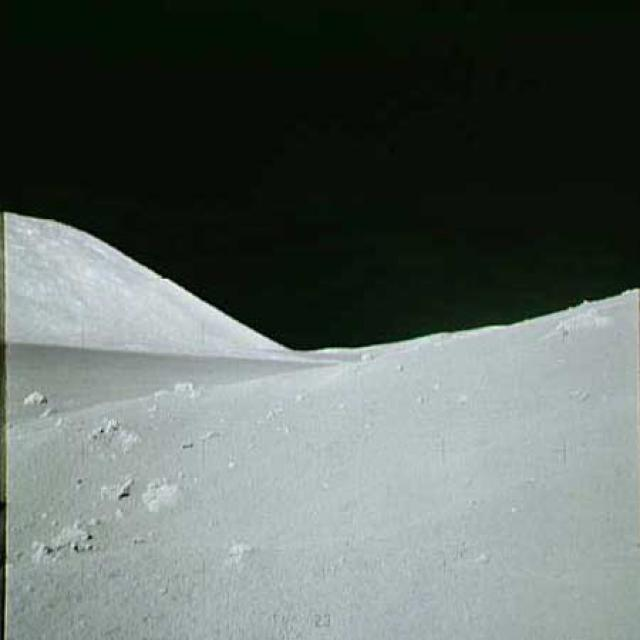rock: (32, 515, 107, 557), (83, 418, 143, 455), (150, 376, 206, 408), (142, 477, 188, 511), (97, 476, 138, 502), (16, 385, 50, 407)
